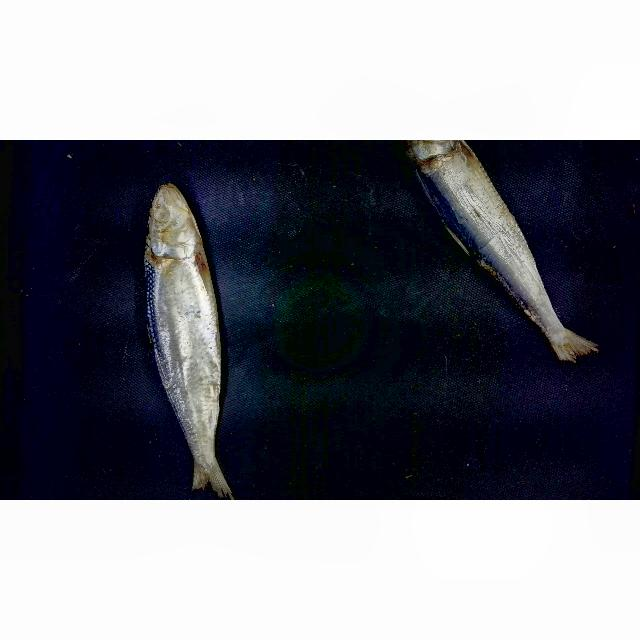Grade_A_Body: (134, 265, 236, 418), (420, 176, 552, 274)
Grade_A_Head: (125, 178, 217, 262)
Grade_A_Tail: (487, 278, 606, 378), (169, 423, 239, 500)
